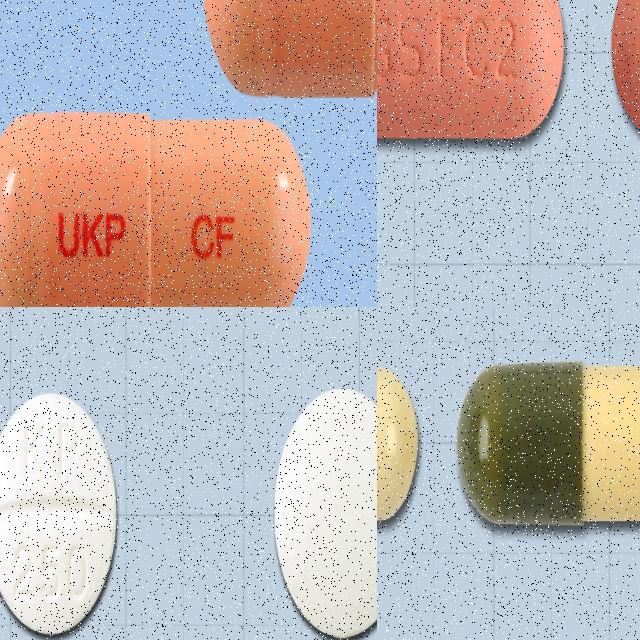Kipocin: (0, 391, 118, 635), (274, 387, 377, 640)
Kivexa: (377, 0, 568, 140)
Kymoxin Cap-500mg: (457, 363, 640, 527)
Unilevo Tab: (0, 107, 311, 307), (204, 0, 377, 97)
